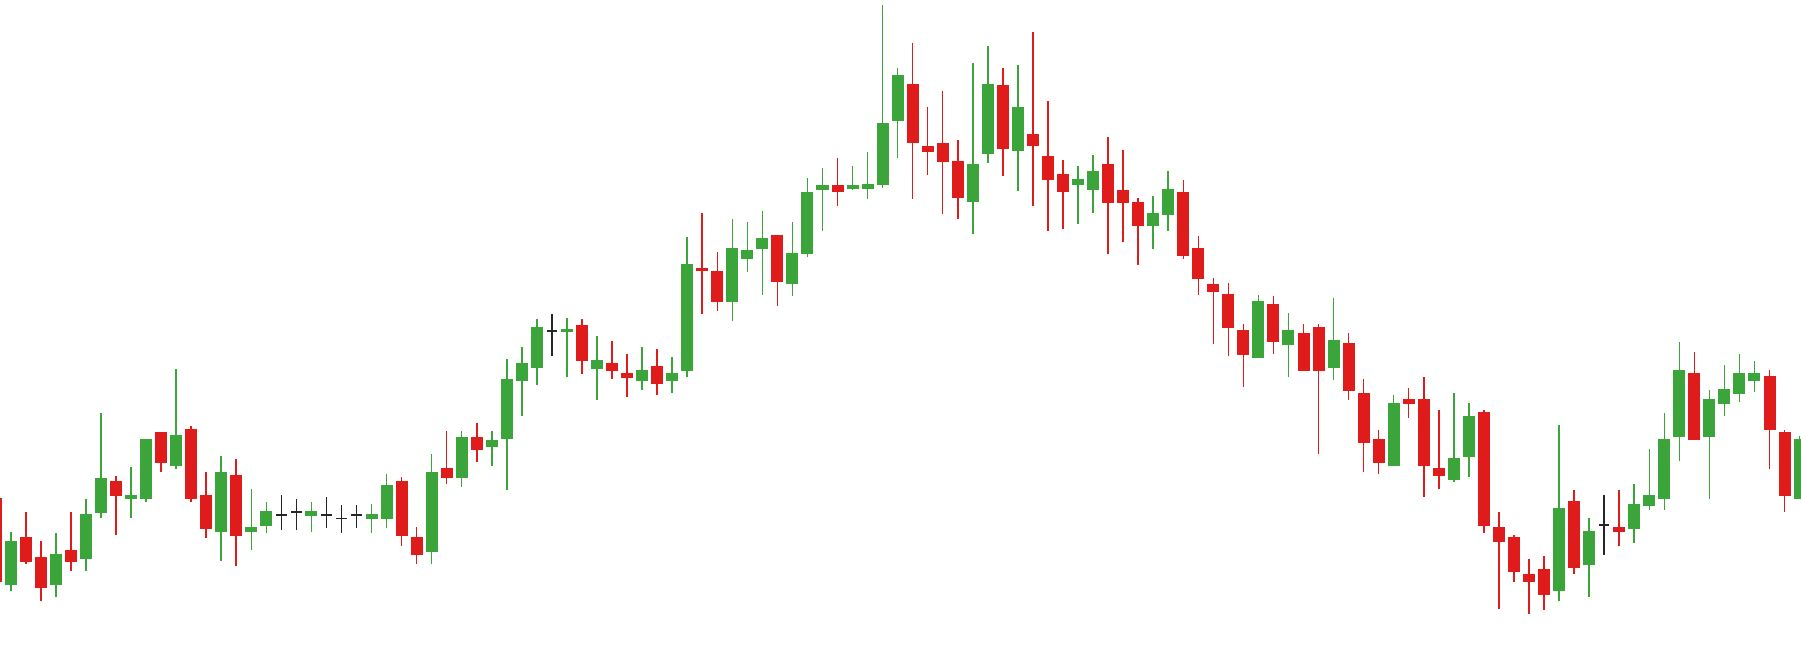sell: (1444, 342, 1701, 506)
